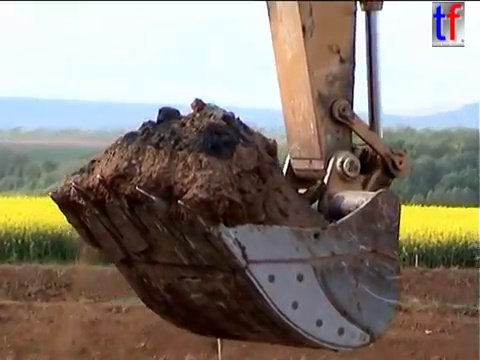excavator: (45, 1, 410, 354)
